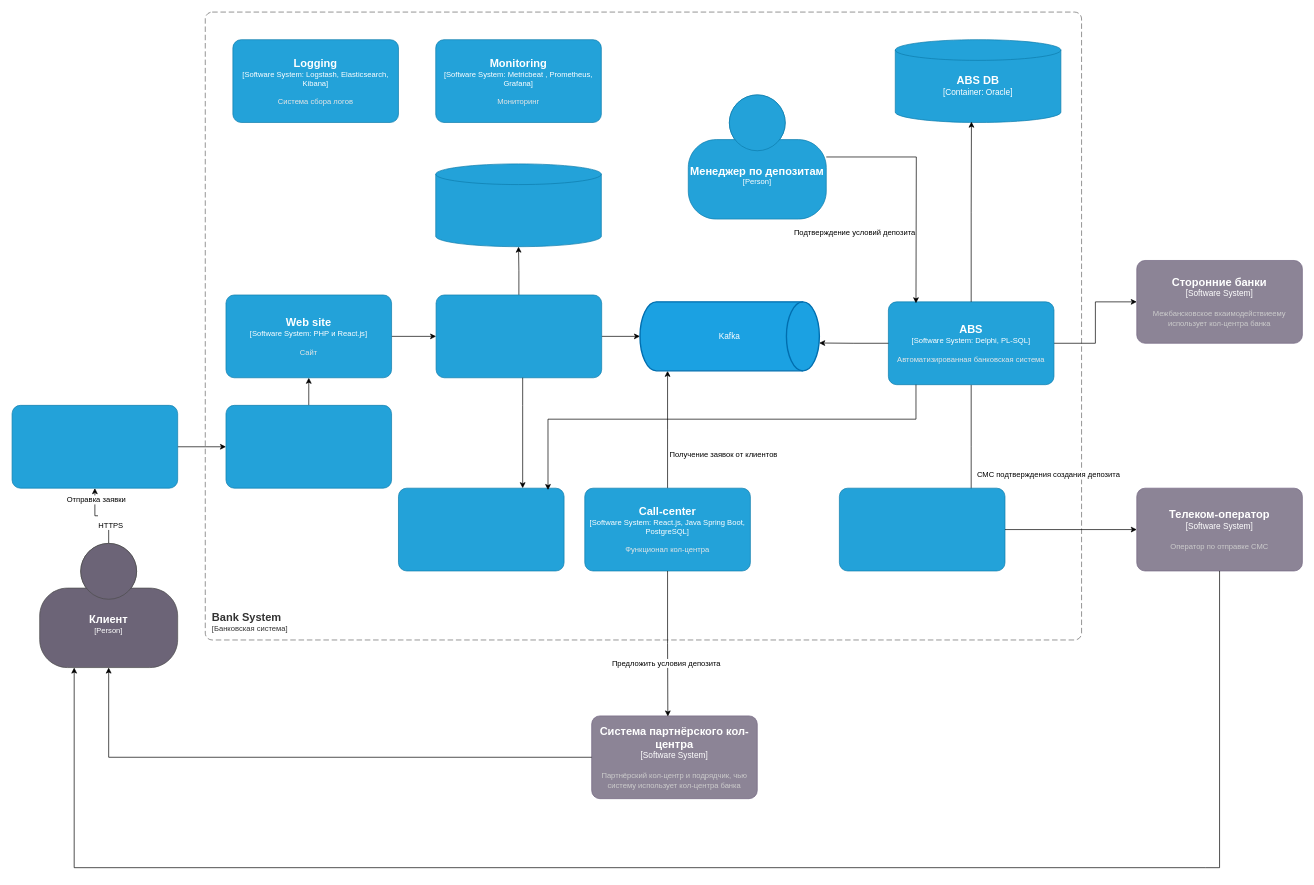
Some shapes in this 1314 by 885 pixel diagram are drawn without their labels. Each missing label, with the centre of its shape:
"API Gateway [Software System: ] Шлюз" belongs at (x=308, y=446).
"Encryption keys management [Software System: ]" belongs at (x=481, y=529).
"Internet Bank [Software System: ASP.NET Core 10]" belongs at (x=518, y=336).
"InternetBank DB [Container: MS SQL]" belongs at (x=518, y=205).
"Load Balancer [Software System: ] Выбор ЦОД" belongs at (x=94, y=446).
"SMS Gateway [Software System: ] Взаимодействует с телеком-оператором" belongs at (x=922, y=529).
